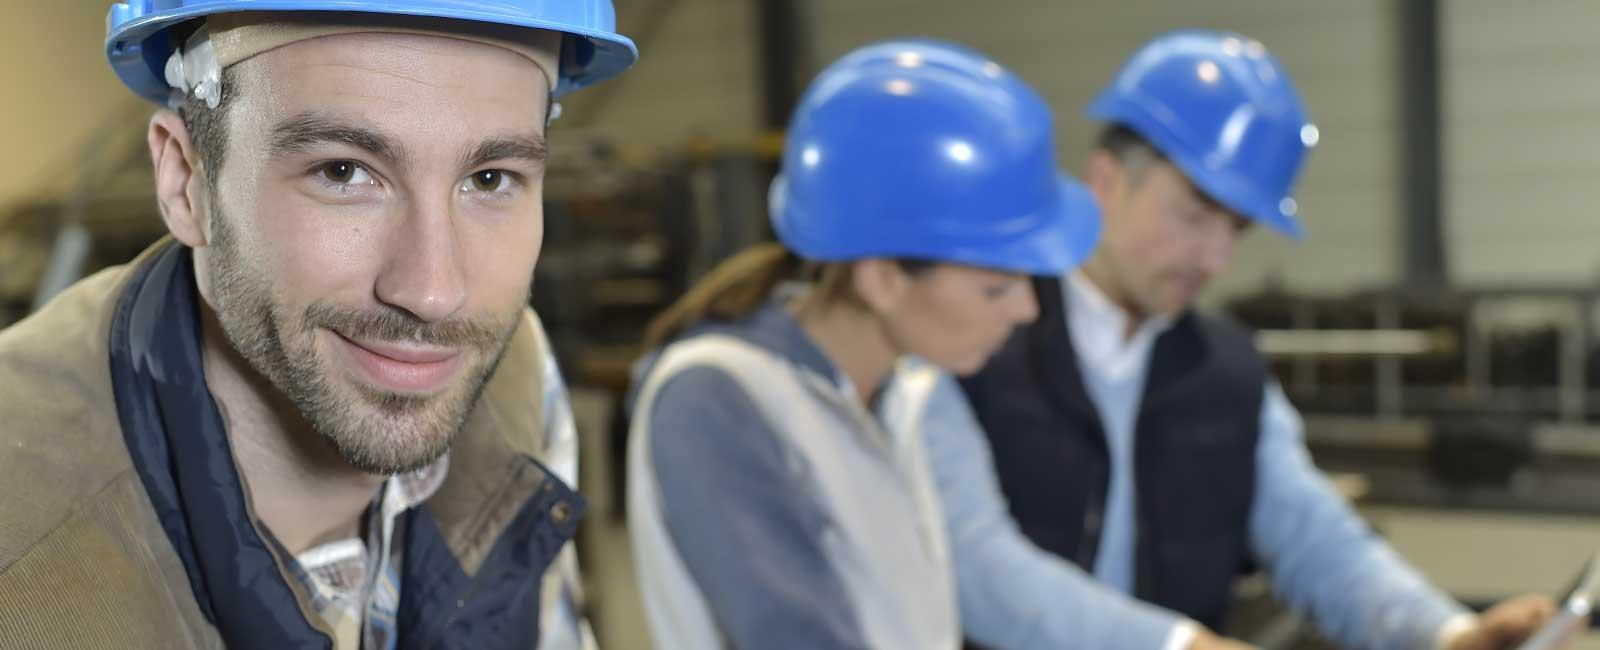helmet: (773, 35, 1097, 278), (103, 1, 634, 104), (1088, 22, 1312, 235)
